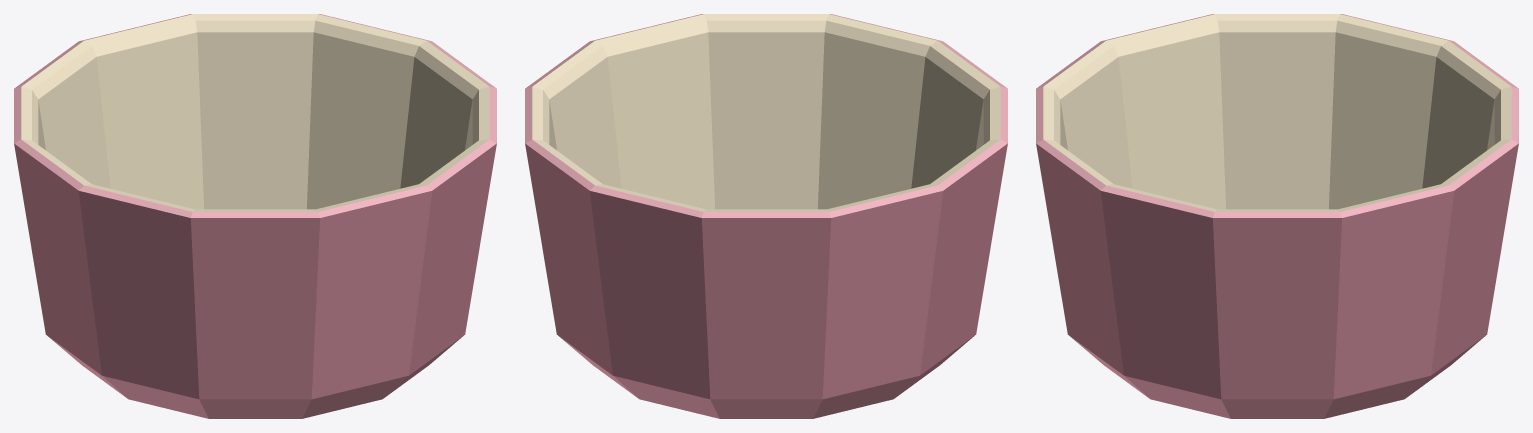
The model's file is 09-ceramic-bowl.glb.
3 renders of one model, left to right at view 1: azimuth 30°, elevation 25°; view 2: azimuth 150°, elevation 25°; view 3: azimuth 270°, elevation 25°, orthographic.
Visible parts, largest first — view 1: 09 Ceramic Bowl - hollow faceted ceramic; view 2: 09 Ceramic Bowl - hollow faceted ceramic; view 3: 09 Ceramic Bowl - hollow faceted ceramic.
Boxes of the visible parts, left/top/right/bottom form: 09 Ceramic Bowl - hollow faceted ceramic: left=14, top=14, right=496, bottom=418; 09 Ceramic Bowl - hollow faceted ceramic: left=525, top=14, right=1007, bottom=418; 09 Ceramic Bowl - hollow faceted ceramic: left=1036, top=14, right=1518, bottom=418.
Size of the model in its own units: 2.2 by 1.22 by 2.2.
